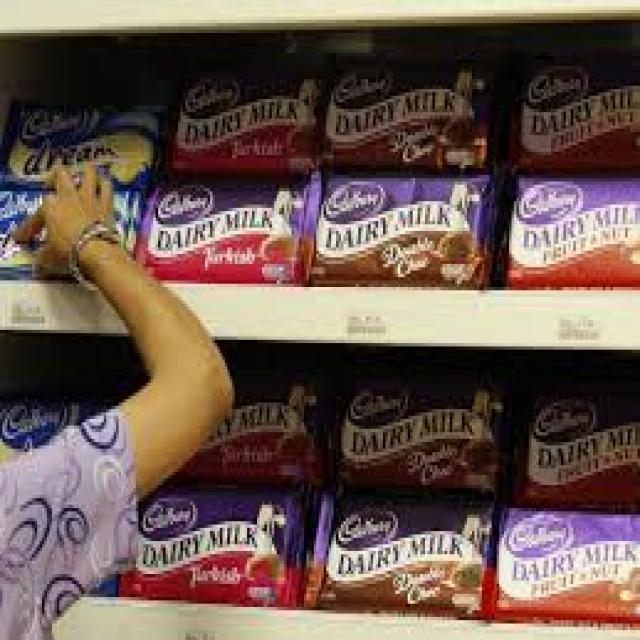cadbury: (138, 164, 316, 287), (134, 496, 327, 606), (322, 60, 492, 176), (318, 172, 487, 286), (317, 502, 489, 612), (336, 384, 497, 495), (497, 508, 640, 626), (516, 393, 640, 508), (176, 66, 317, 166), (514, 174, 640, 280), (523, 62, 640, 170)
